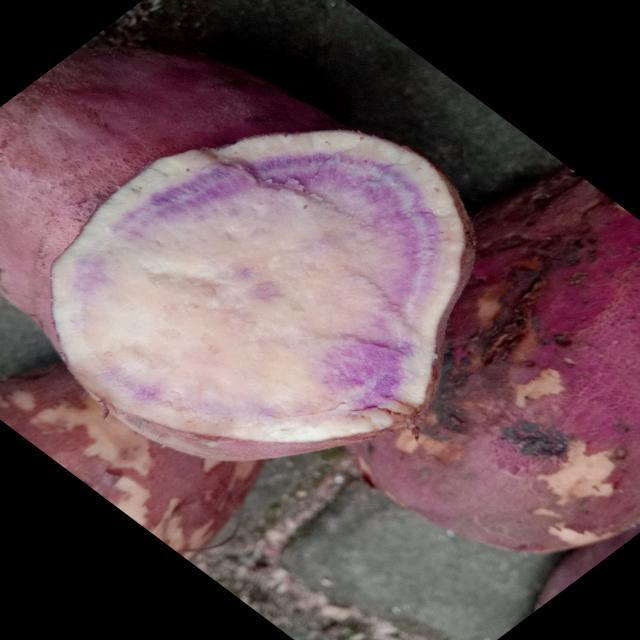Healthy Sweet Potato: (52, 130, 472, 460)
